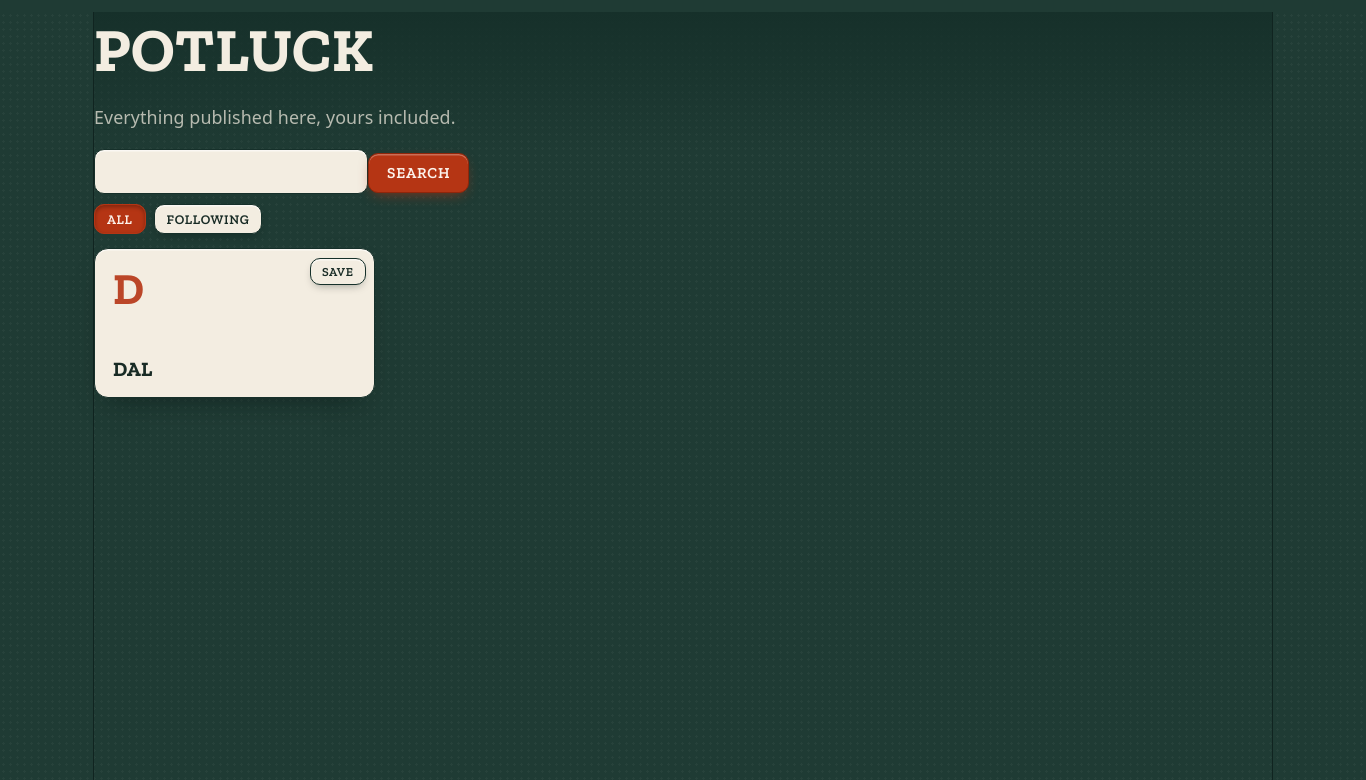
switching to Following when listFollowedCookIds resolves to [] renders the empty note and no recipes
The width and height of the screenshot is (1366, 780).
Check: the text "Dal" is shown, box top-left (113, 358), bottom-right (153, 381)
Click the button "Following": {"x": 208, "y": 219} top-left (154, 204), bottom-right (262, 234)
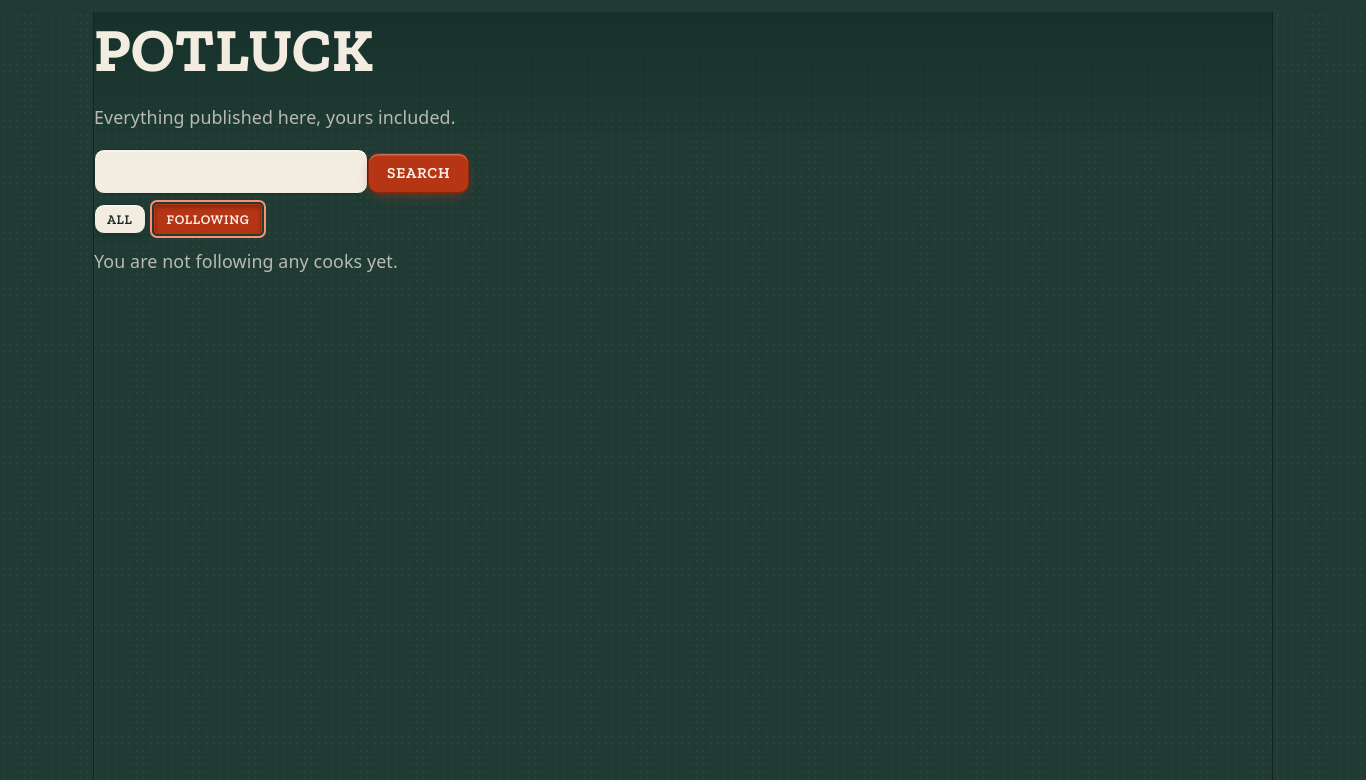
Check: the text "You are not following any cooks yet." is shown, box top-left (94, 249), bottom-right (398, 273)
Check: the link "Dal" is gone
